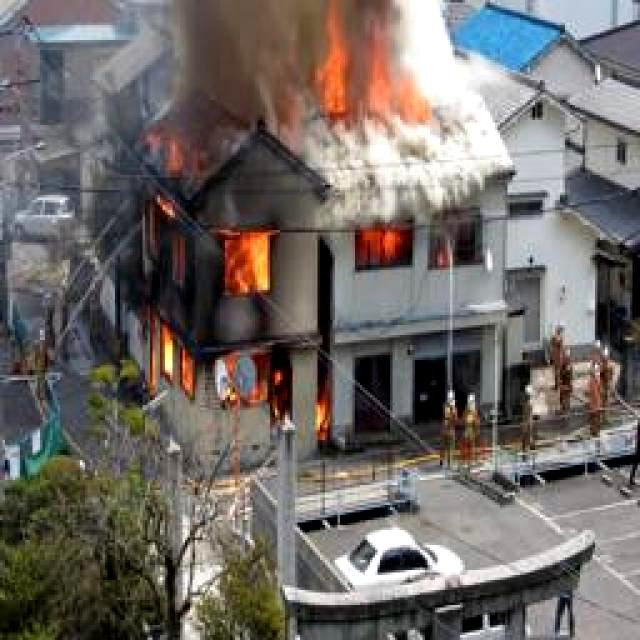fire: (126, 124, 338, 456), (311, 11, 441, 125), (357, 224, 455, 274)
